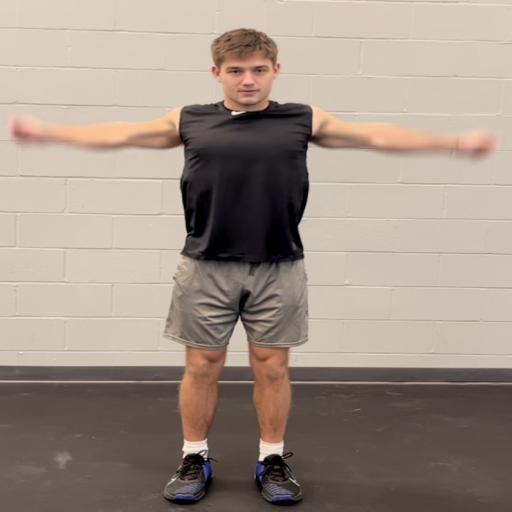Normal_DumbbellBicepCurls: (48, 11, 467, 512)
Normal_JumpingJacks: (9, 19, 507, 503)
